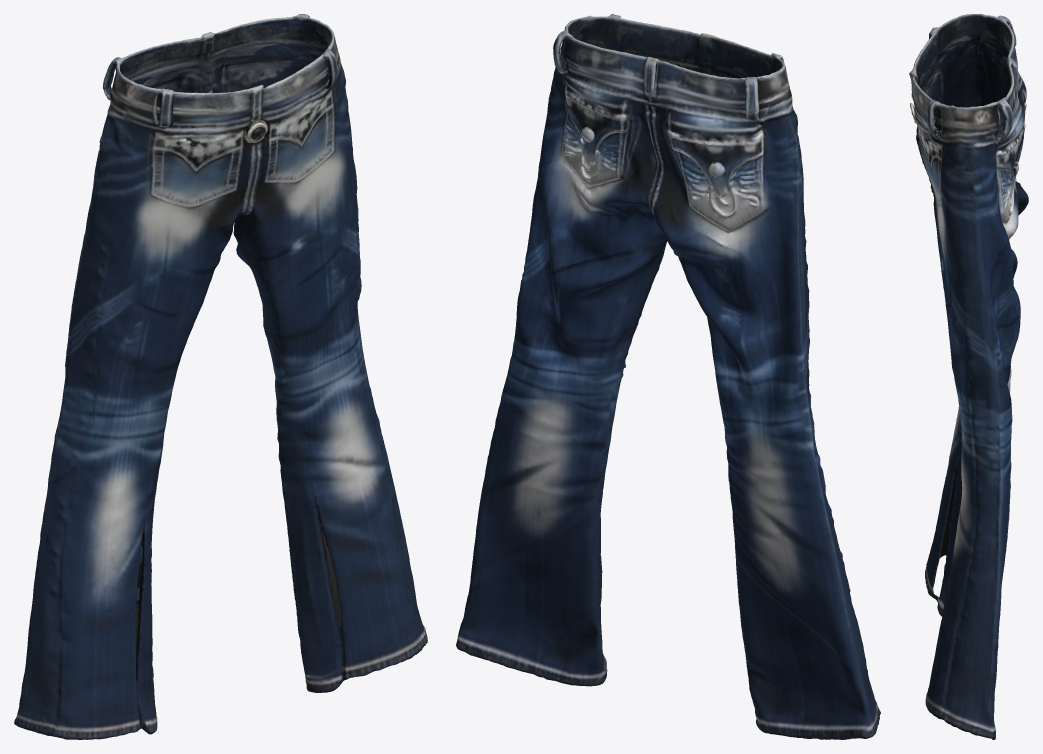
The model's file is y2kjeans.glb.
3 views of the same model, side by side, from view 1: azimuth 30°, elevation 25°; view 2: azimuth 150°, elevation 25°; view 3: azimuth 270°, elevation 25° (orthographic). The views are drawn at different scales.
Bounding box in the file's own units: 1.24 × 1.9 × 0.3406.
Materials: 1 (1 with a texture image).
